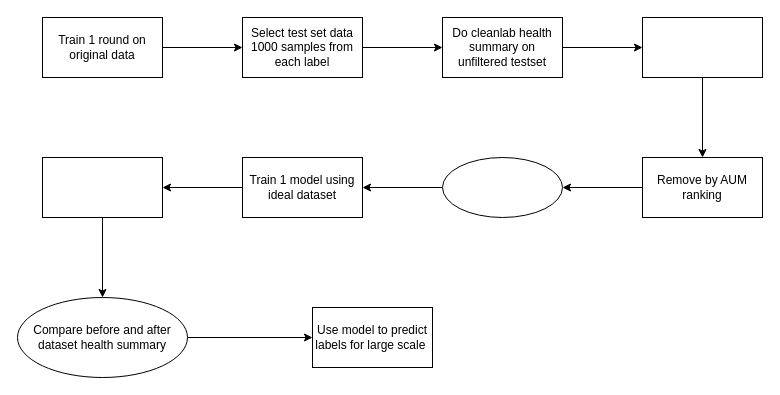
Image size: 780x395. Some labels were removed from this diagram. The shapes that lost their labels are listed below. From the top down, each one's centre as x and y in pixels, then its label:
At point 702,47: "Remove by cleanlab OOD detection".
At point 102,187: "Predict the testset labels".
At point 502,187: "Ideal clean dataset".
